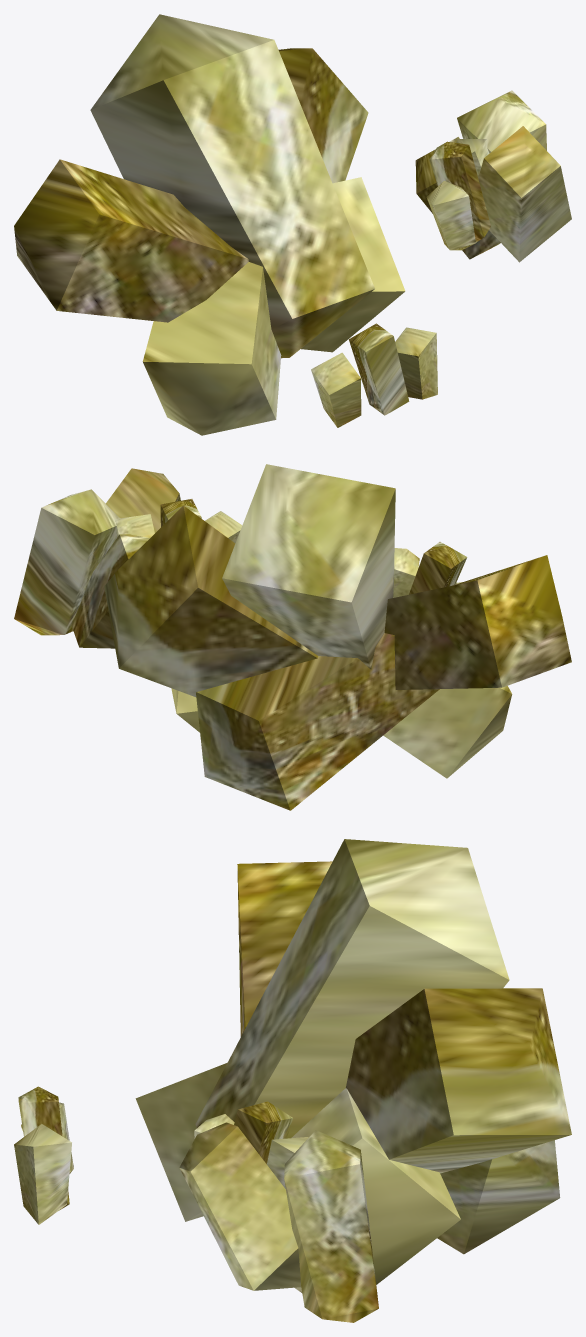
The model's file is dujvshi_5.fbx.
3 views of the same model, one above another, from view 1: azimuth 30°, elevation 25°; view 2: azimuth 150°, elevation 25°; view 3: azimuth 270°, elevation 25° (orthographic). The views are drawn at different scales.
Visible parts, largest first — view 1: polySurface20; view 2: polySurface20; view 3: polySurface20.
Part boxes in pixels (x1,y1,x2,y2): polySurface20: [14, 14, 571, 435]; polySurface20: [14, 464, 571, 810]; polySurface20: [14, 839, 571, 1322].
Size of the model in its own units: 82.94 by 48.79 by 63.18.
